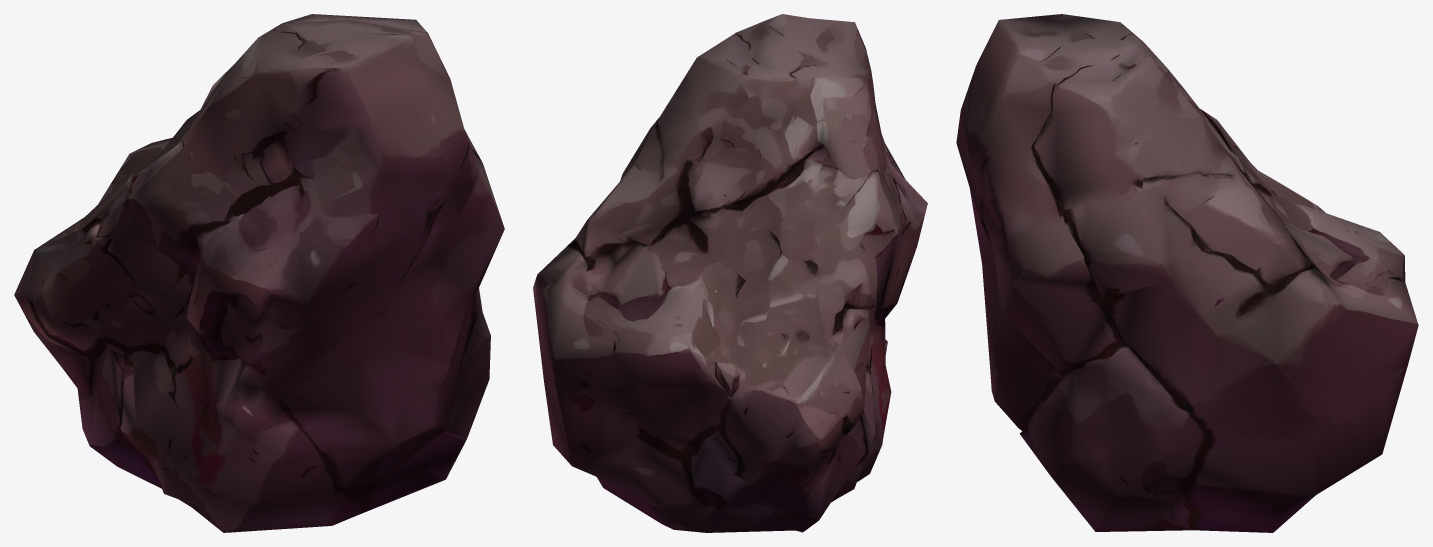
The model's file is cave-rock.glb.
The picture shows the model from 3 angles, left to right: view 1: azimuth 30°, elevation 25°; view 2: azimuth 150°, elevation 25°; view 3: azimuth 270°, elevation 25°; orthographic projection. The views are drawn at different scales.
Visible parts, largest first — view 1: tripo_node_4e585c1b-5253-4b44-b107-ec419c907297; view 2: tripo_node_4e585c1b-5253-4b44-b107-ec419c907297; view 3: tripo_node_4e585c1b-5253-4b44-b107-ec419c907297.
Boxes of the visible parts, x1=… form: tripo_node_4e585c1b-5253-4b44-b107-ec419c907297: x1=14, y1=14, x2=504, y2=532; tripo_node_4e585c1b-5253-4b44-b107-ec419c907297: x1=533, y1=14, x2=927, y2=532; tripo_node_4e585c1b-5253-4b44-b107-ec419c907297: x1=956, y1=14, x2=1418, y2=532.
Bounding box in the file's own units: 0.8333 × 0.9981 × 0.9378.
Materials: 1 (1 with a texture image).
